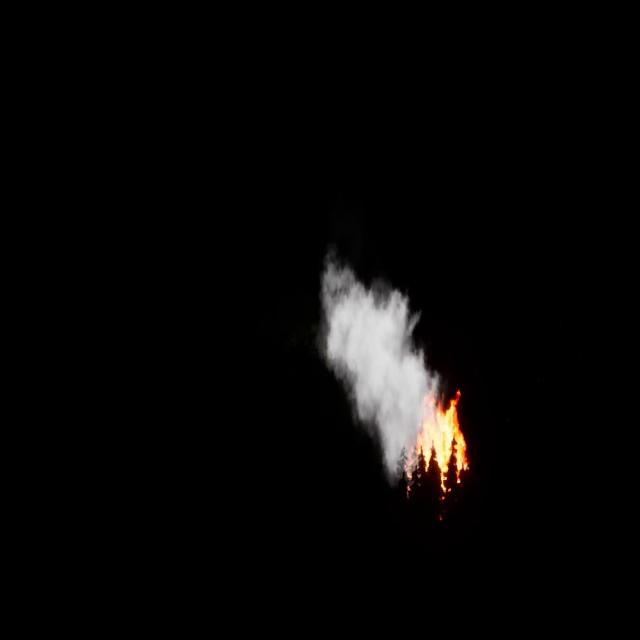fire: (408, 390, 469, 490)
smoke: (319, 246, 447, 469)
